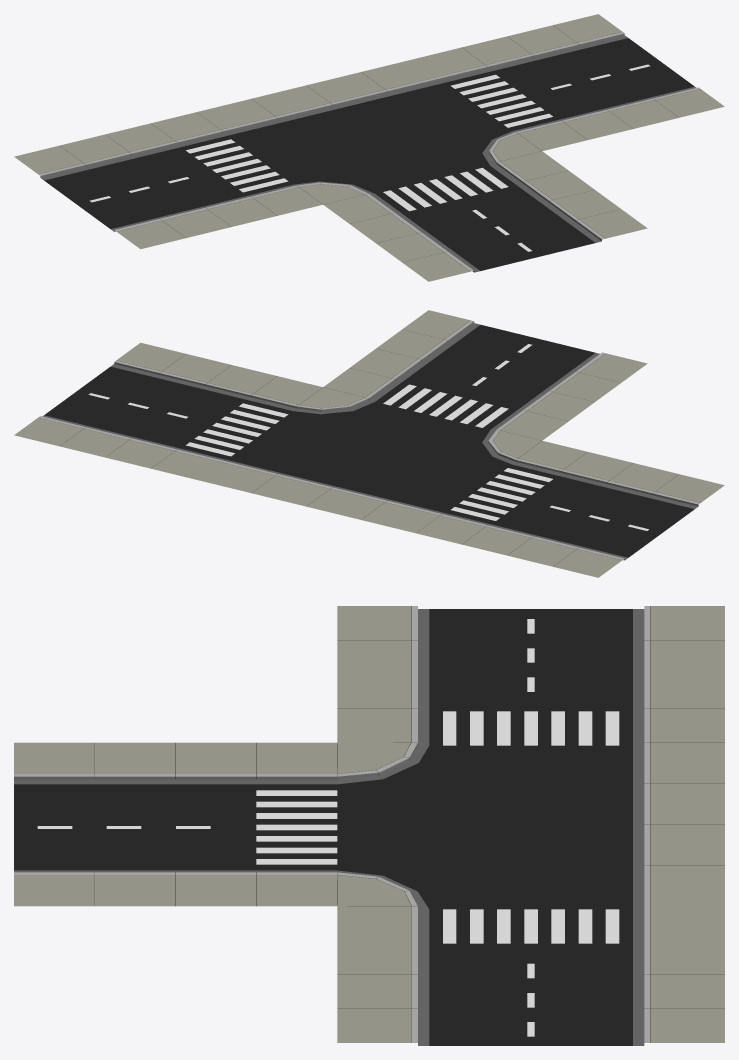
File: Road-T.fbx
The picture shows the model from 3 angles, top to bottom: view 1: azimuth 30°, elevation 25°; view 2: azimuth 150°, elevation 25°; view 3: azimuth 270°, elevation 25°; orthographic projection. The views are drawn at different scales.
Parts seen in each view (by area): view 1: Road, Sides; view 2: Road, Sides; view 3: Road, Sides.
Part boxes in pixels (x1,y1,x2,y2): Road: [41, 35, 696, 272]; Sides: [14, 14, 724, 281]; Road: [42, 323, 698, 560]; Sides: [14, 310, 724, 577]; Road: [14, 609, 644, 1045]; Sides: [14, 606, 724, 1042].
Size of what is drawn, in the model's own units: 64 by 0.2 by 44.
